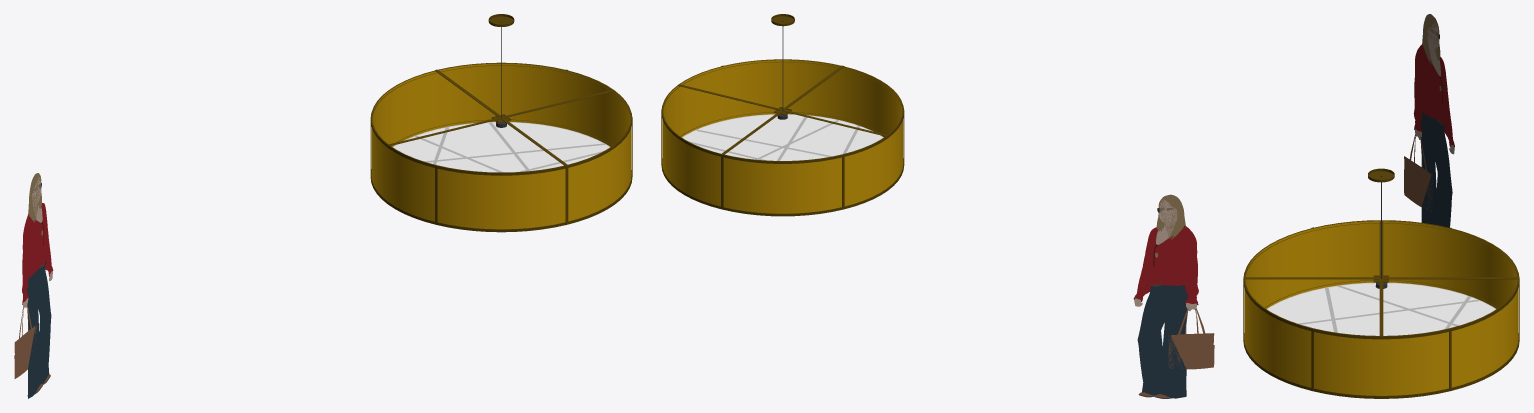
The picture shows the model from 3 angles, left to right: view 1: azimuth 30°, elevation 25°; view 2: azimuth 150°, elevation 25°; view 3: azimuth 270°, elevation 25°; orthographic projection. The views are drawn at different scales.
Visible parts, largest first — view 1: Model, Laura1, G_60_Above_Crossbar2, G_60_Above_Crossbar1; view 2: Model, Laura1, G_60_Above_Crossbar2; view 3: Model, Laura1, G_60_Above_Crossbar1, G_60_Above_Crossbar2, Group1.
Part boxes in pixels (left/top/right/bottom): Model: left=370, top=27, right=632, bottom=232; Laura1: left=14, top=173, right=53, bottom=398; G_60_Above_Crossbar2: left=389, top=90, right=614, bottom=145; G_60_Above_Crossbar1: left=435, top=70, right=567, bottom=165; Model: left=661, top=26, right=904, bottom=216; Laura1: left=1133, top=194, right=1214, bottom=398; G_60_Above_Crossbar2: left=678, top=84, right=886, bottom=136; Model: left=1243, top=182, right=1519, bottom=398; Laura1: left=1404, top=14, right=1454, bottom=227; G_60_Above_Crossbar1: left=1245, top=277, right=1517, bottom=279; G_60_Above_Crossbar2: left=1379, top=220, right=1383, bottom=335; Group1: left=1368, top=168, right=1394, bottom=182.
Bounding box in the file's own units: 4.77 × 2.2 × 1.84.
